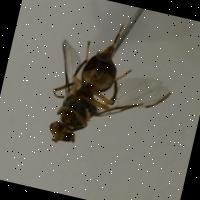Oriental-fruit-fly: (22, 13, 184, 182)
